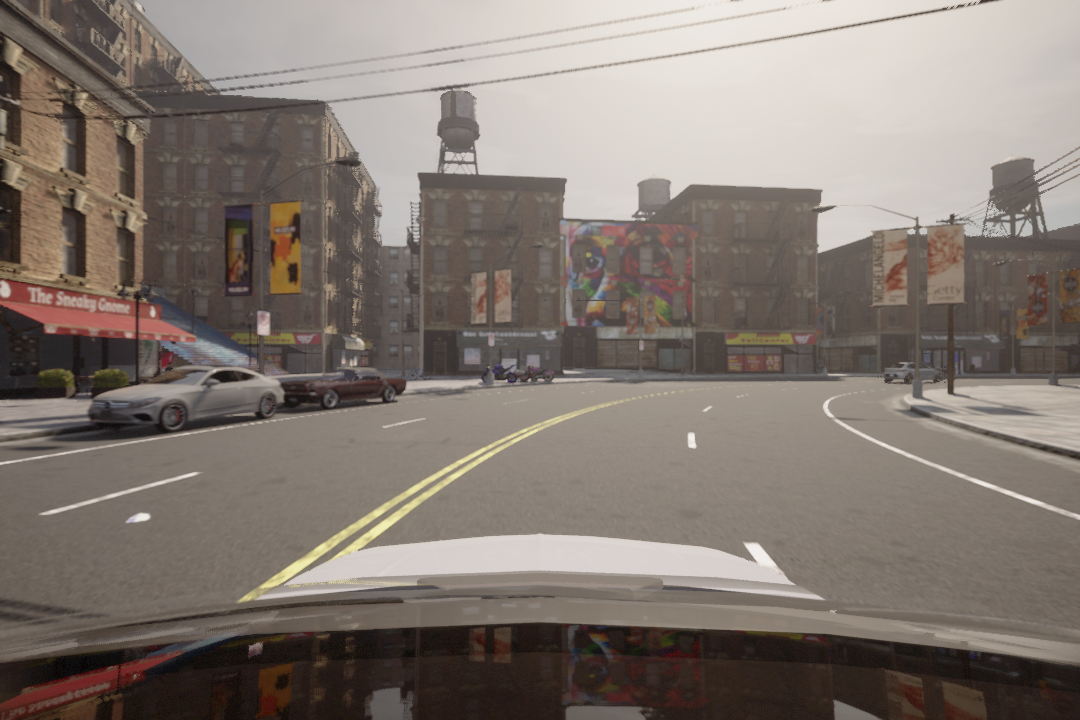TrafficSign_nstop: (257, 311, 270, 336)
